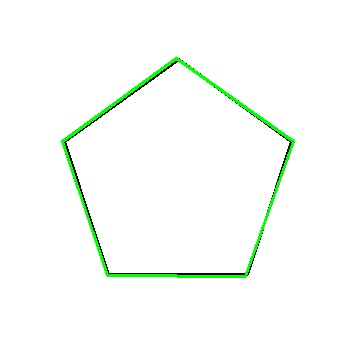line_segment: (62, 58, 294, 277)
